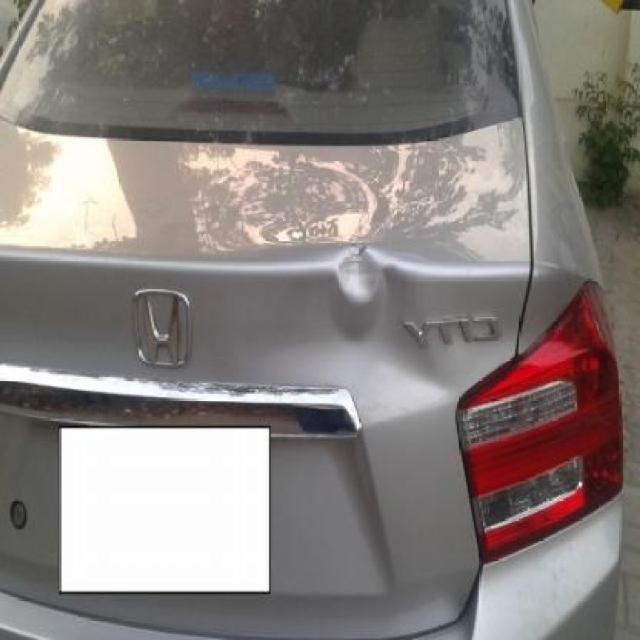minor: (286, 312, 449, 426), (323, 248, 383, 343)
